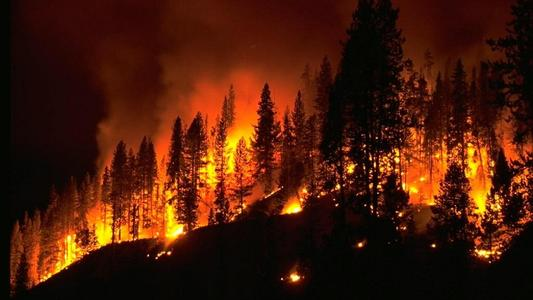fire: (56, 205, 186, 243), (199, 130, 257, 184), (464, 146, 503, 213), (404, 149, 447, 205)
smoke: (96, 1, 325, 127), (405, 3, 517, 73)
